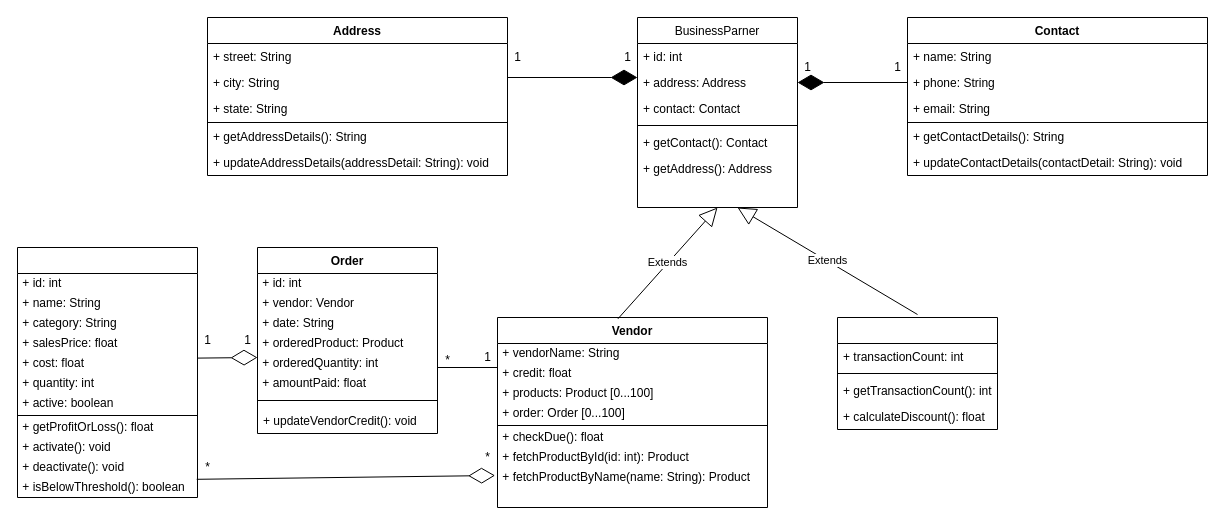
This 1225x525 diagram has some shape labels left out. The box of each missing label's shape, as (x1, y1, x2, y2) in pixels:
Customer: (836, 316, 998, 430)
Product: (16, 246, 198, 498)
